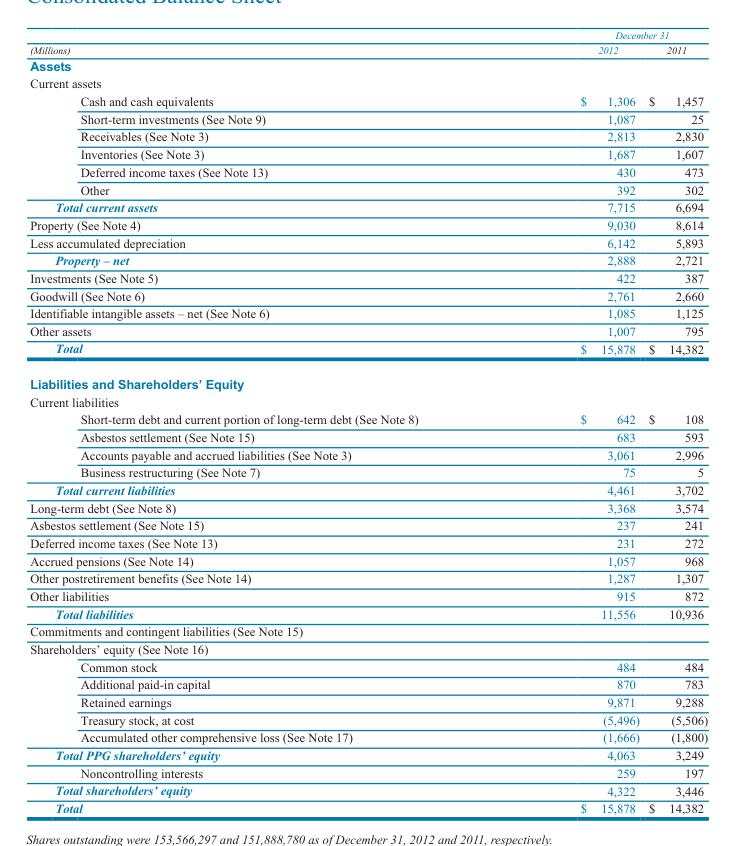table: (29, 28, 707, 814)
table column: (29, 28, 498, 814), (498, 28, 643, 814), (643, 28, 707, 814)
table column header: (29, 28, 707, 56)
table projected row header: (29, 366, 707, 392), (29, 56, 707, 74), (29, 74, 707, 92), (29, 392, 707, 410), (29, 639, 707, 657), (29, 622, 707, 639)
table row: (29, 339, 707, 366), (29, 366, 707, 392), (29, 56, 707, 74), (29, 74, 707, 92), (29, 109, 707, 127), (29, 127, 707, 145), (29, 162, 707, 180), (29, 180, 707, 198), (29, 215, 707, 233), (29, 233, 707, 251), (29, 268, 707, 286), (29, 286, 707, 304), (29, 321, 707, 339), (29, 392, 707, 410), (29, 427, 707, 445), (29, 445, 707, 463), (29, 480, 707, 498), (29, 498, 707, 516), (29, 533, 707, 551), (29, 551, 707, 569), (29, 586, 707, 604), (29, 604, 707, 622), (29, 639, 707, 657), (29, 657, 707, 675), (29, 675, 707, 693), (29, 710, 707, 728), (29, 745, 707, 763), (29, 763, 707, 781), (29, 92, 707, 109), (29, 145, 707, 162), (29, 198, 707, 215), (29, 251, 707, 268), (29, 304, 707, 321), (29, 410, 707, 427), (29, 463, 707, 480), (29, 516, 707, 533), (29, 569, 707, 586), (29, 622, 707, 639), (29, 693, 707, 710), (29, 728, 707, 745), (29, 781, 707, 798), (29, 798, 707, 814), (29, 41, 707, 56), (29, 28, 707, 41)
table spanning cell: (29, 28, 498, 56), (498, 28, 707, 41)
